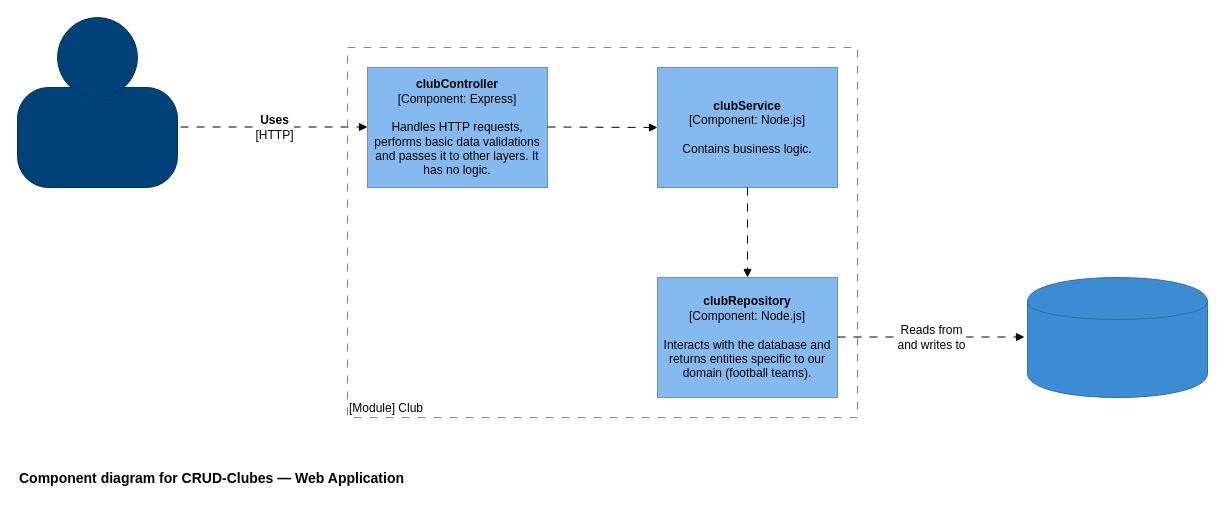
Image size: 1225x505. Some labels were removed from this diagram. The shapes that lost their labels are listed below. From the top down, each one's box as (x1, y1, x2, y2) in pixels, then its label:
(16, 86, 178, 188): User [Person] Football teams Manager
(1026, 276, 1208, 398): Database [Container: File System, JSON] Stores football teams information.
